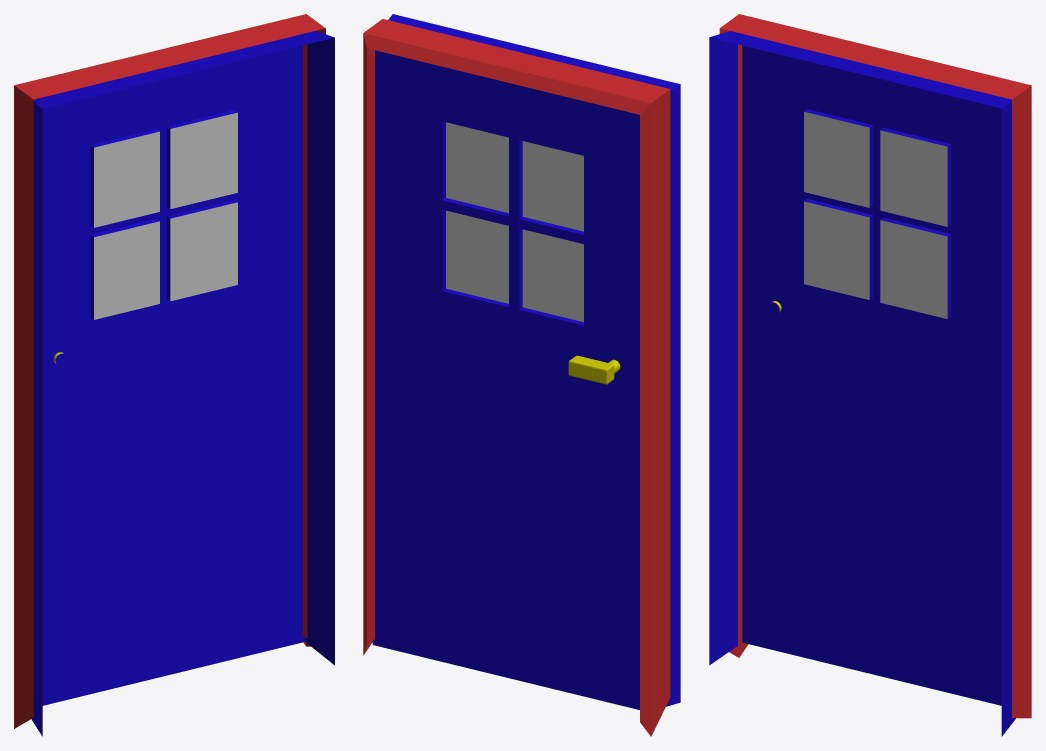
The model's file is Door.fbx.
The picture shows the model from 3 angles, left to right: view 1: azimuth 30°, elevation 25°; view 2: azimuth 150°, elevation 25°; view 3: azimuth 330°, elevation 25°; orthographic projection.
Visible parts, largest first — view 1: Door; view 2: Door; view 3: Door.
Part boxes in pixels (x1,y1,x2,y2): Door: (14,14,334,736); Door: (363,14,680,736); Door: (709,14,1031,736).
Size of the model in its own units: 200 by 421 by 47.68.
